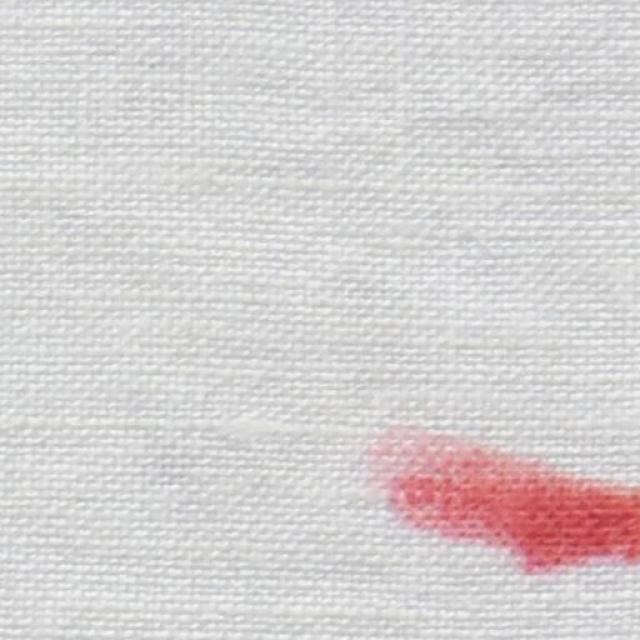Stain: (381, 425, 639, 568)
